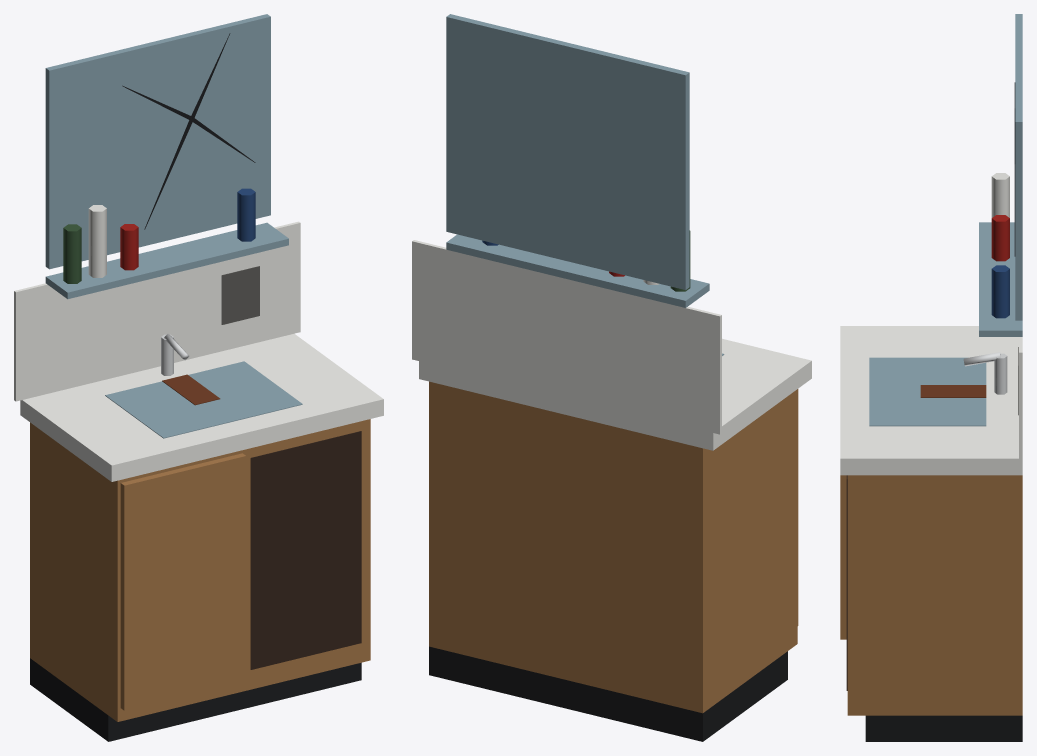
Rendered from basin_vanity.glb.
3 renders of one model, left to right at view 1: azimuth 30°, elevation 25°; view 2: azimuth 150°, elevation 25°; view 3: azimuth 270°, elevation 25°, orthographic. The views are drawn at different scales.
Parts seen in each view (by area): view 1: basin_vanity; view 2: basin_vanity; view 3: basin_vanity.
Boxes of the visible parts, x1,y1,x2,y2 form: basin_vanity: (14,14,383,741); basin_vanity: (412,14,811,741); basin_vanity: (840,14,1022,741).
Size of the model in its own units: 0.9 by 1.85 by 0.5.
Materials: 1 (1 with a texture image).
